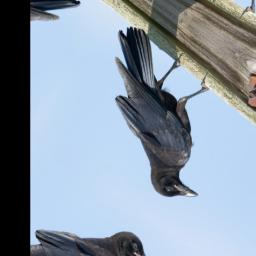Crow: (62, 18, 252, 214)
